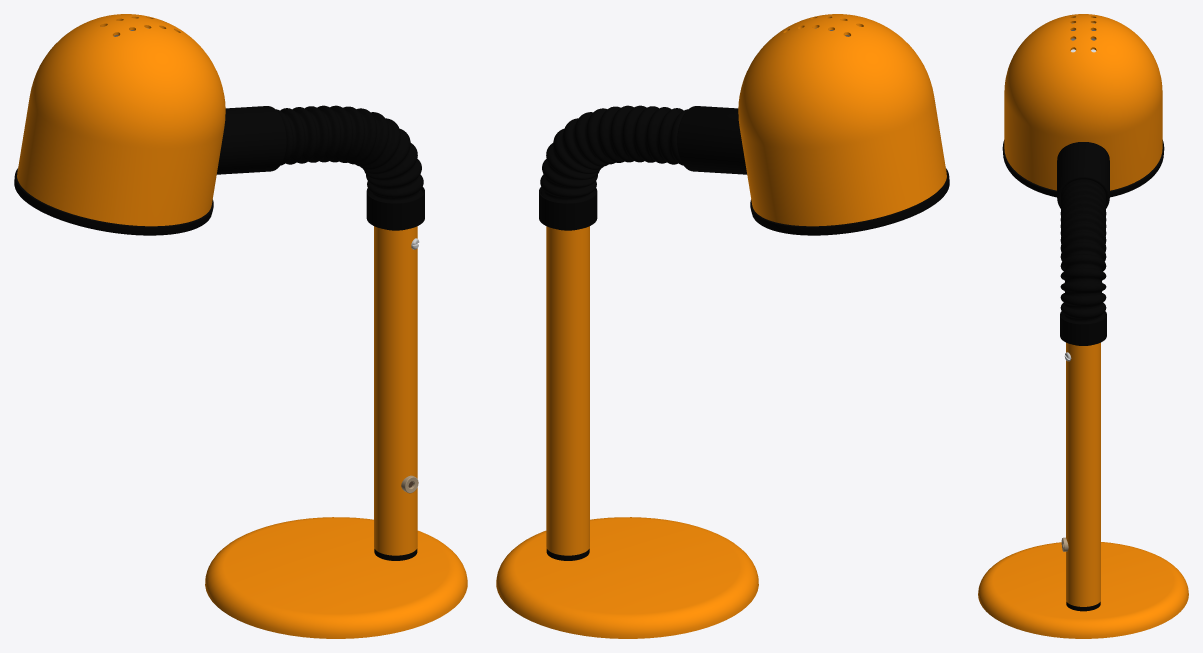
The model's file is Lamp.fbx.
The picture shows the model from 3 angles, left to right: view 1: azimuth 30°, elevation 25°; view 2: azimuth 150°, elevation 25°; view 3: azimuth 270°, elevation 25°; orthographic projection. The views are drawn at different scales.
Visible parts, largest first — view 1: Cylinder.003, Cylinder, Cylinder.001, Cylinder.006, Cylinder.005, Cylinder.004, Cylinder.002; view 2: Cylinder.003, Cylinder, Cylinder.001, Cylinder.006, Cylinder.005, Cylinder.004, Cylinder.002; view 3: Cylinder.003, Cylinder, Cylinder.001, Cylinder.006, Cylinder.005, Cylinder.002, Cylinder.004.
Part boxes in pixels (x1,y1,x2,y2): Cylinder.003: (17,14,225,226); Cylinder: (205,517,467,638); Cylinder.001: (374,226,417,560); Cylinder.006: (276,105,423,203); Cylinder.005: (216,106,286,174); Cylinder.004: (14,168,213,235); Cylinder.002: (366,187,424,230); Cylinder.003: (738,14,946,226); Cylinder: (496,517,758,638); Cylinder.001: (546,226,589,560); Cylinder.006: (540,105,687,203); Cylinder.005: (677,106,747,174); Cylinder.004: (750,168,949,235); Cylinder.002: (539,187,597,230); Cylinder.003: (1004,14,1162,190); Cylinder: (978,542,1188,638); Cylinder.001: (1066,342,1100,611); Cylinder.006: (1060,179,1106,323); Cylinder.005: (1057,142,1109,207); Cylinder.002: (1060,311,1106,345); Cylinder.004: (1002,140,1164,197).
Size of the model in its own units: 902 by 1247 by 486.
